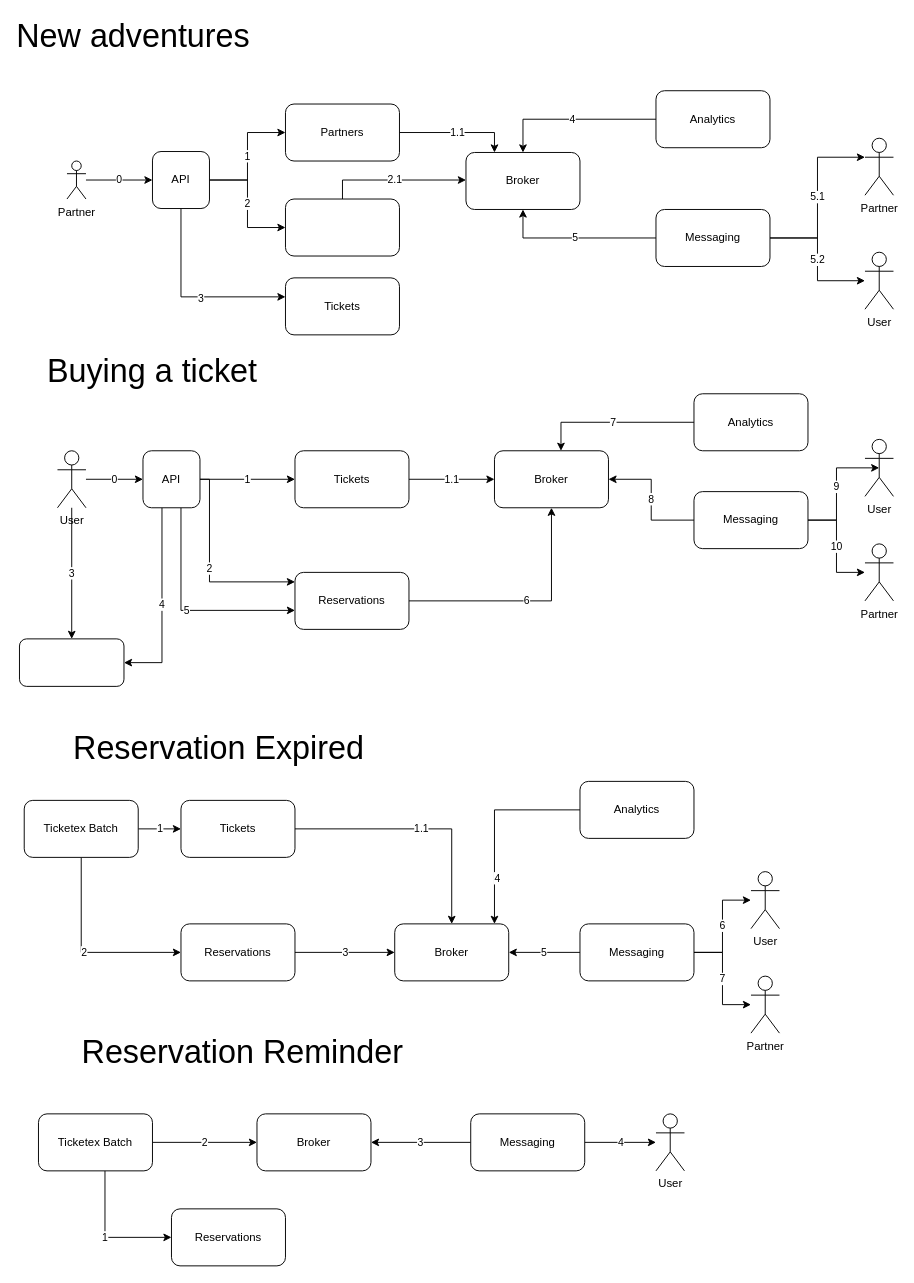
The diagram is 914 pixels wide and 1283 high, and some of its shapes have lost their labels. Here are the shapes that lost their labels. From the top down, the centre of each, then its label:
At (x=342, y=227): "Adventures".
At (x=71, y=662): "Payment Processor".
